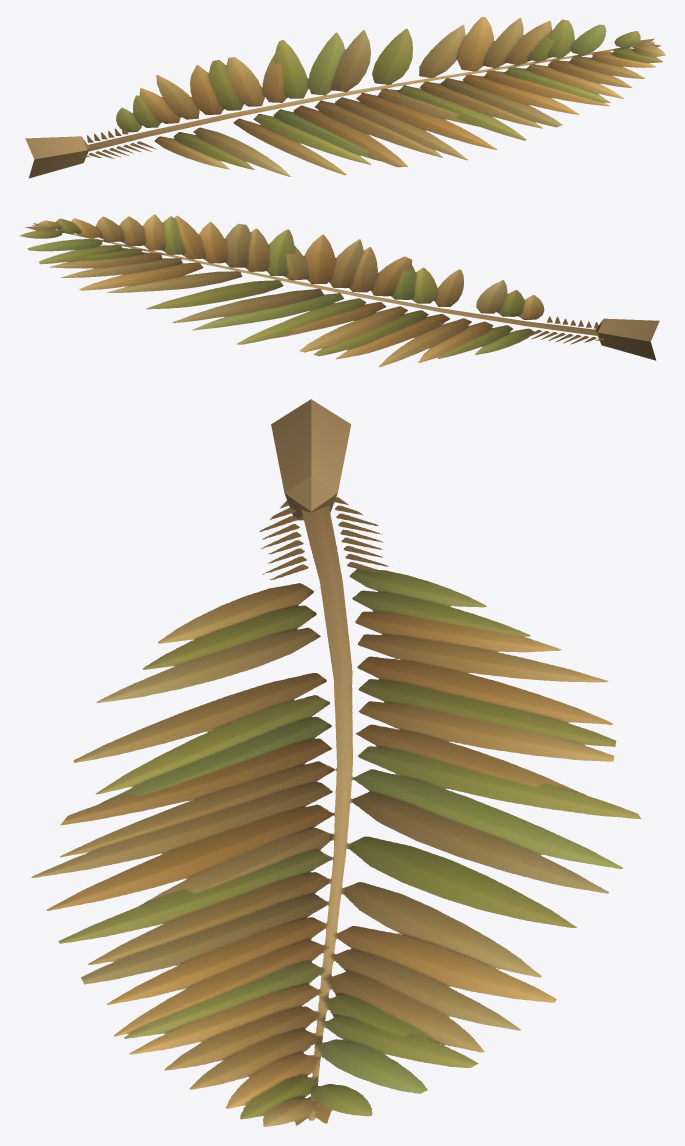
The model's file is frond_fallen.glb.
3 views of the same model, one above another, from view 1: azimuth 30°, elevation 25°; view 2: azimuth 150°, elevation 25°; view 3: azimuth 270°, elevation 25° (orthographic). The views are drawn at different scales.
Parts seen in each view (by area): view 1: frond_fallen_mesh; view 2: frond_fallen_mesh; view 3: frond_fallen_mesh.
Part boxes in pixels (x1,y1,x2,y2): frond_fallen_mesh: [25, 17, 665, 178]; frond_fallen_mesh: [20, 214, 659, 367]; frond_fallen_mesh: [31, 399, 641, 1126].
Size of the model in its own units: 2.59 by 0.2397 by 1.17.
2 materials, 1 textured.
